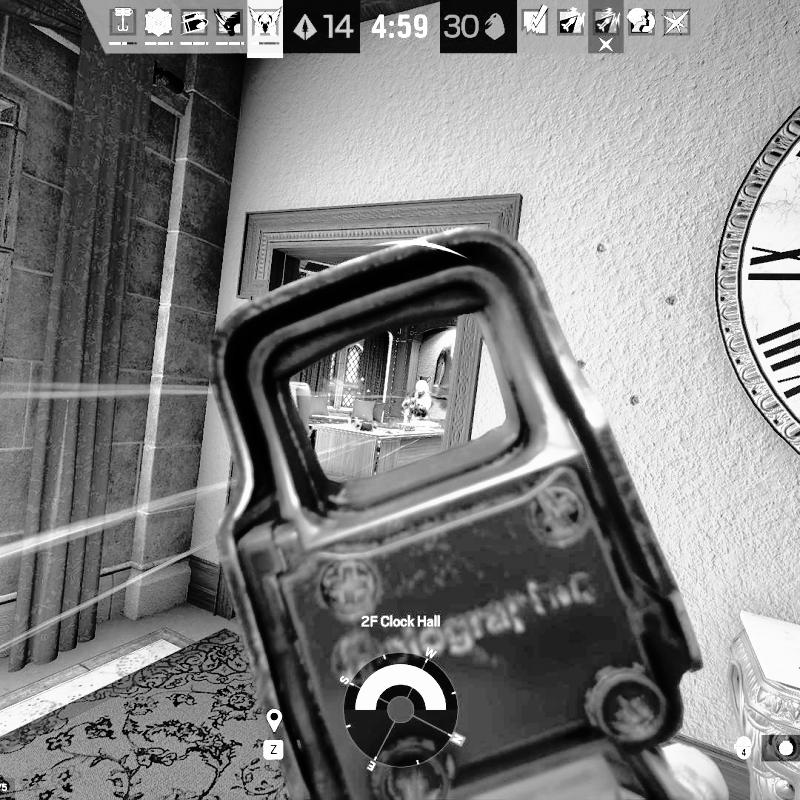Character: (400, 378, 436, 420)
Head: (415, 379, 430, 395)
